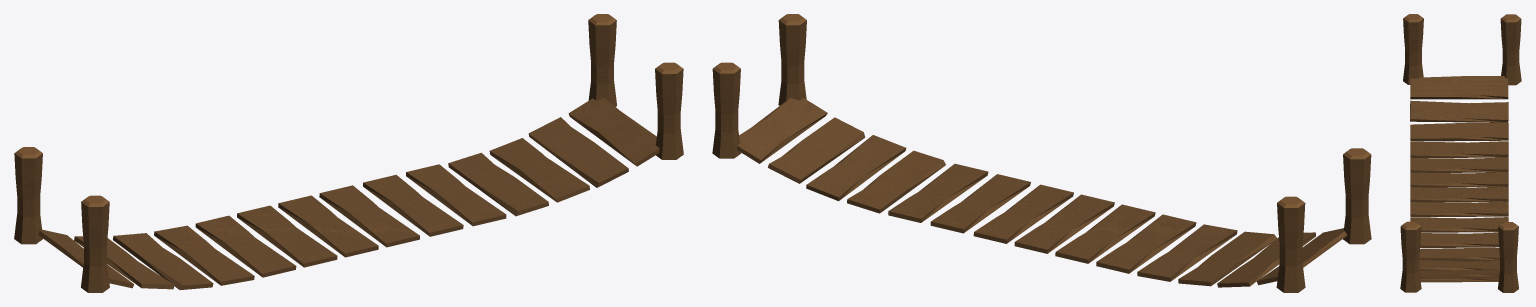
Rendered from Bridge_Large_Timber_Rope_01.fbx.
3 renders of one model, left to right at view 1: azimuth 30°, elevation 25°; view 2: azimuth 150°, elevation 25°; view 3: azimuth 270°, elevation 25°, orthographic. The views are drawn at different scales.
Parts seen in each view (by area): view 1: Model; view 2: Model; view 3: Model.
Boxes of the visible parts, x1,y1,x2,y2 form: Model: (14, 14, 683, 292); Model: (712, 14, 1371, 292); Model: (1400, 14, 1521, 292).
Size of the model in its own units: 1051 by 198 by 255.
